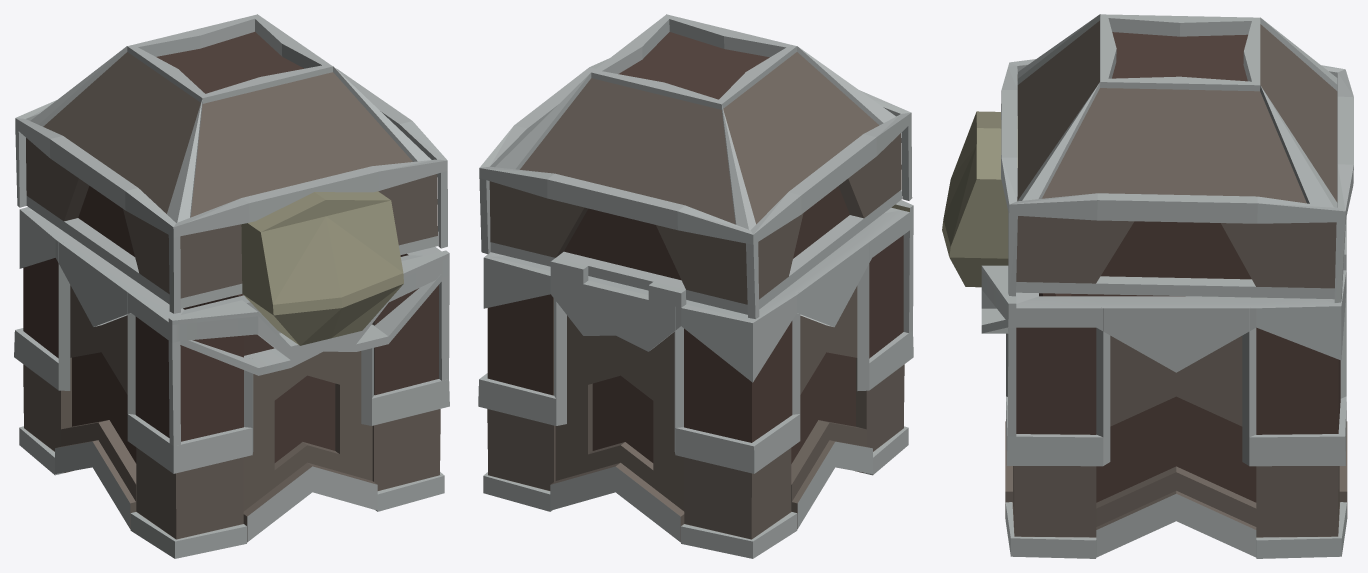
File: AnimatedChest.fbx
The picture shows the model from 3 angles, left to right: view 1: azimuth 30°, elevation 25°; view 2: azimuth 150°, elevation 25°; view 3: azimuth 270°, elevation 25°; orthographic projection. The views are drawn at different scales.
Parts seen in each view (by area): view 1: polySurface19, polySurface18; view 2: polySurface18, polySurface19; view 3: polySurface19, polySurface18.
Boxes of the visible parts, x1=… form: polySurface19: x1=15, y1=14, x2=447, y2=345; polySurface18: x1=14, y1=207, x2=449, y2=558; polySurface18: x1=478, y1=200, x2=913, y2=558; polySurface19: x1=479, y1=14, x2=912, y2=318; polySurface19: x1=942, y1=14, x2=1353, y2=302; polySurface18: x1=981, y1=217, x2=1347, y2=558.
Size of the model in its own units: 1.1 by 1.51 by 1.29.
